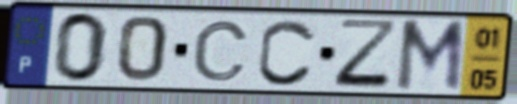0: (49, 11, 116, 85), (114, 14, 172, 85)
C: (255, 16, 319, 88), (191, 18, 252, 84)
M: (392, 18, 469, 95)
Z: (331, 17, 402, 92)
